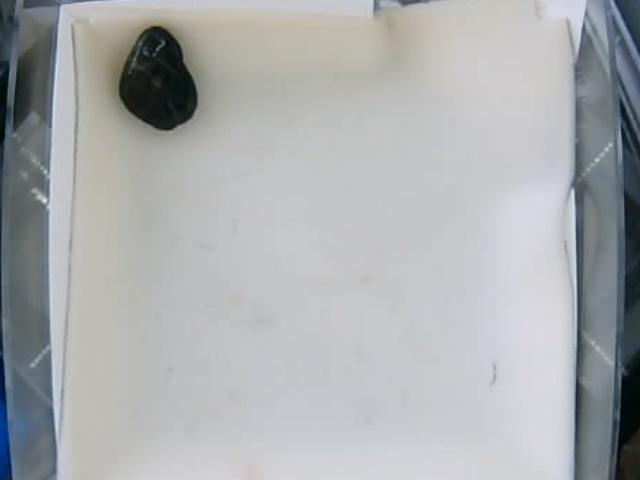Pebble: (117, 26, 198, 129)
